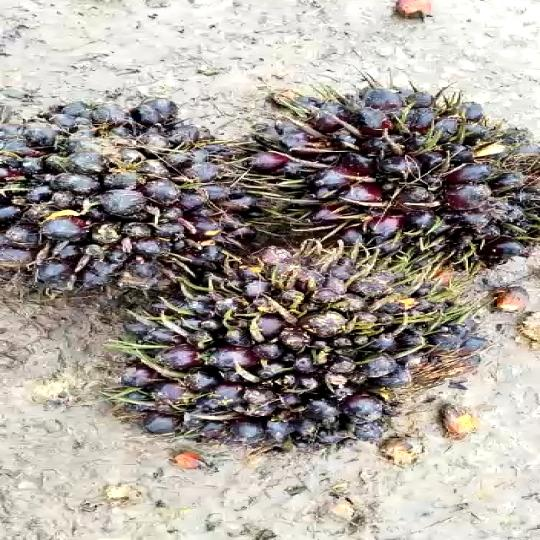mentah: (140, 261, 455, 447), (237, 82, 540, 270), (0, 82, 265, 291)
